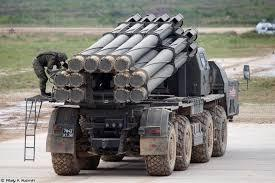MIL_SAM_TEL: (41, 13, 242, 176)
